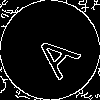A: (25, 25, 82, 81)
